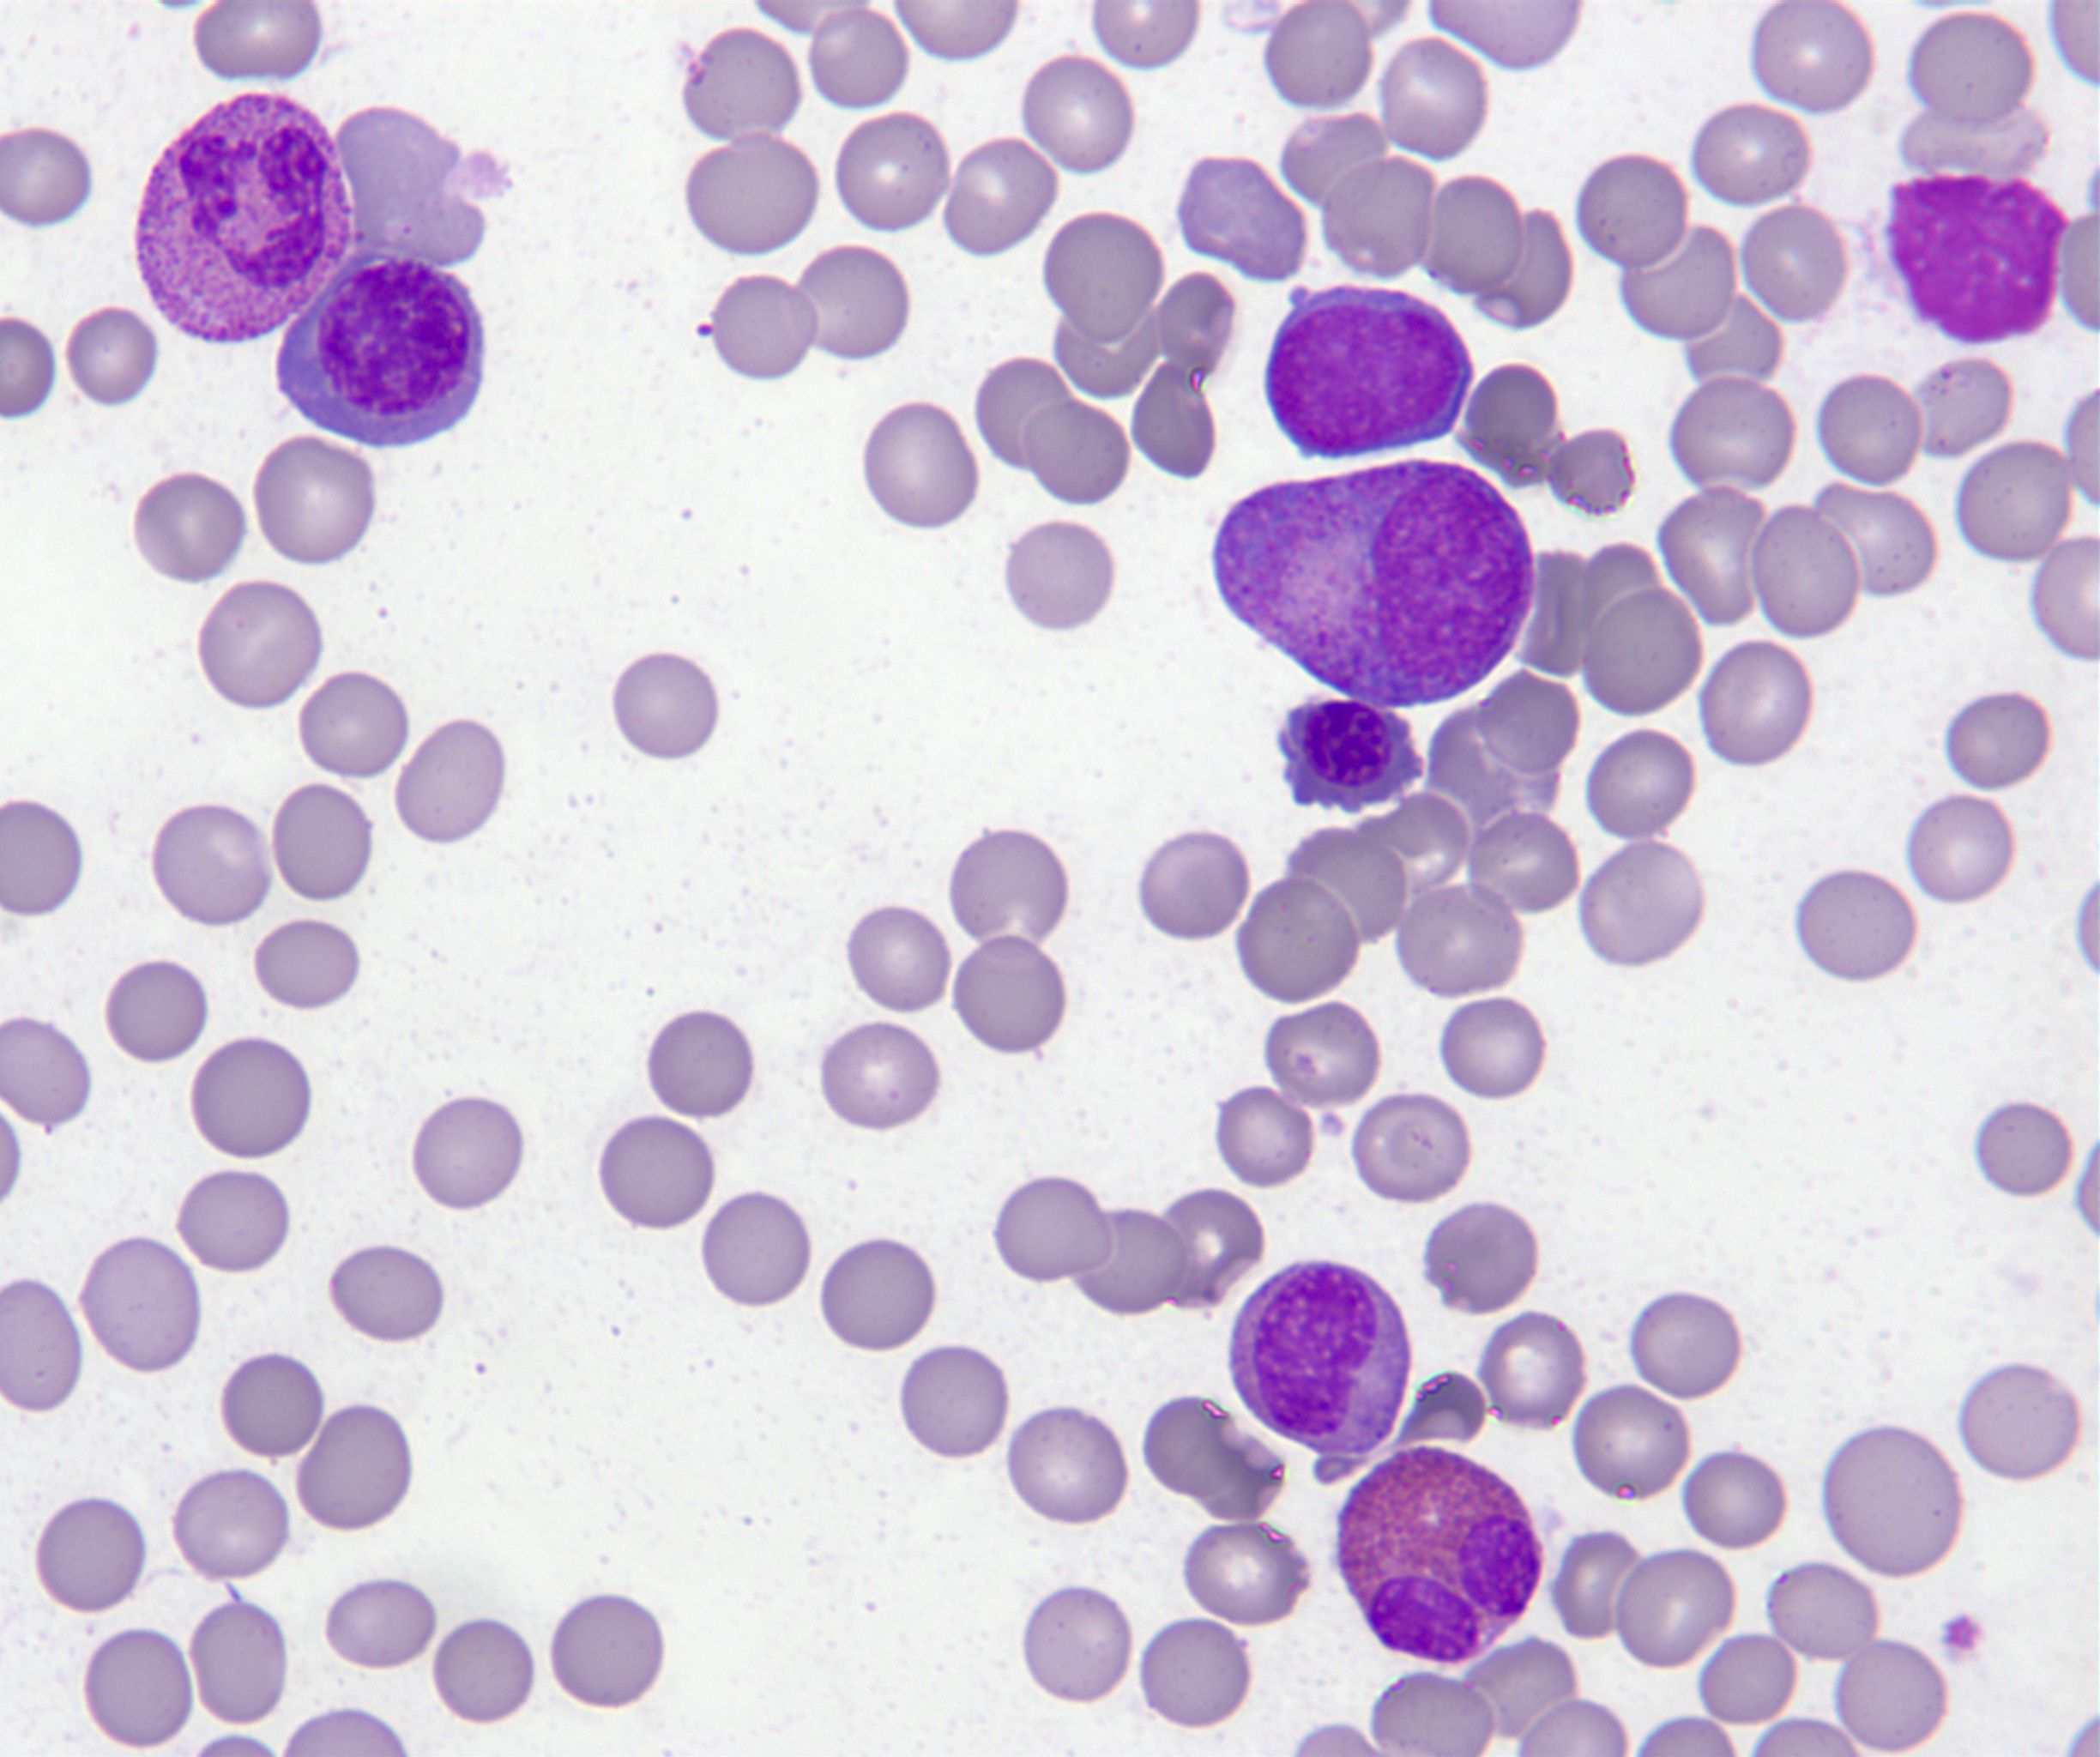1: (1266, 286, 1472, 457)
23: (279, 256, 480, 450)
24: (1280, 700, 1423, 813)
3: (1212, 464, 1533, 707)
4: (1231, 1263, 1411, 1481)
5: (138, 92, 352, 342)
E4: (1338, 1450, 1542, 1659)
